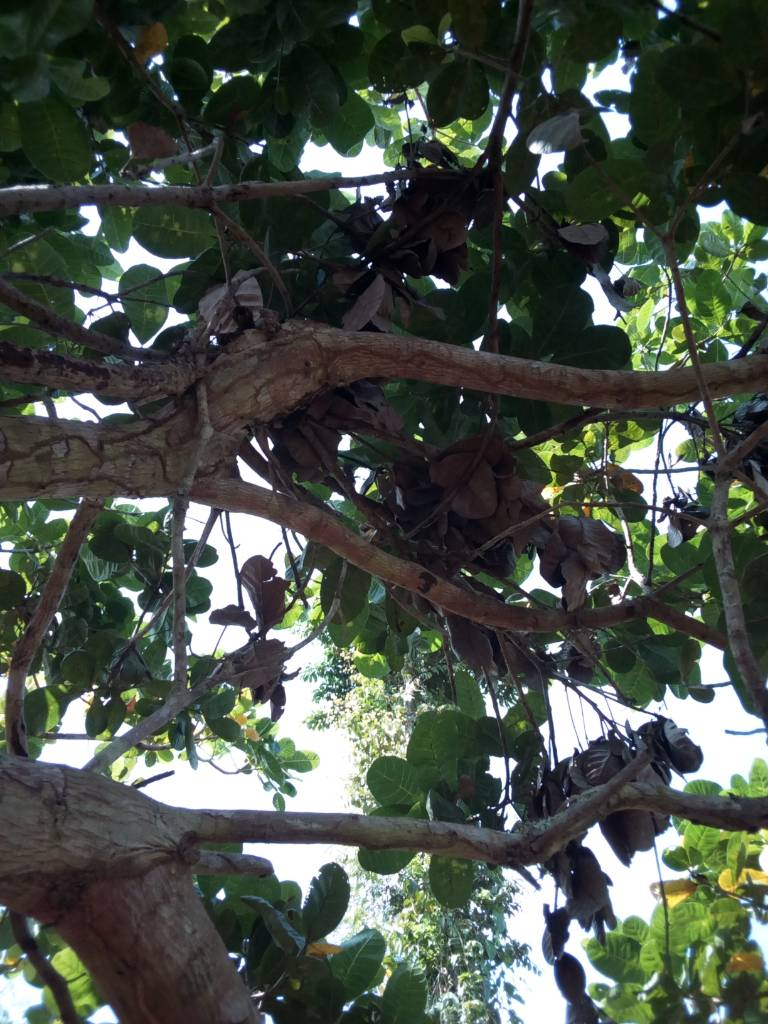Termites: (304, 342, 710, 400), (204, 817, 579, 852), (7, 424, 165, 486)
